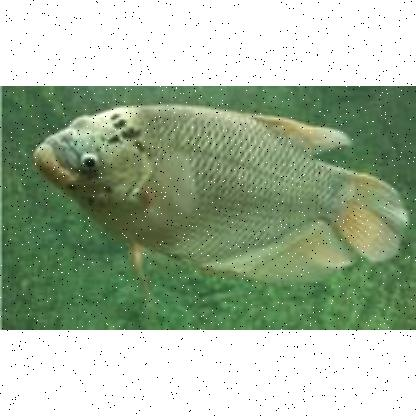gurame: (34, 99, 398, 288)
